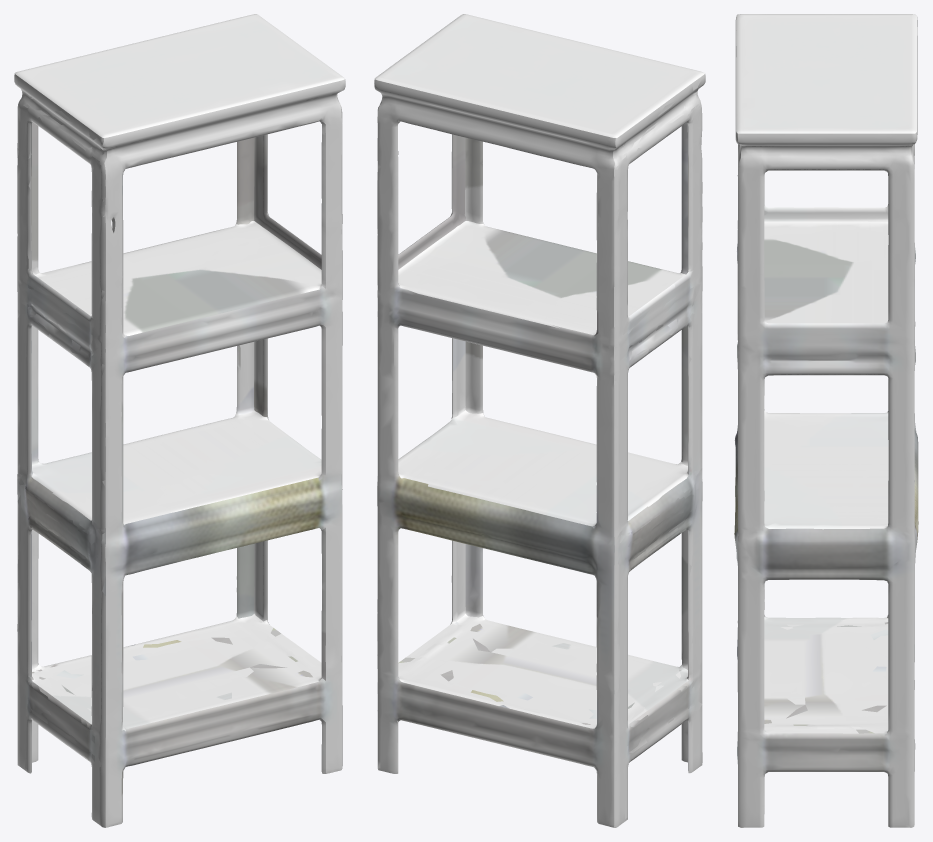
The model's file is shelf__shelf#5.glb.
3 renders of one model, left to right at view 1: azimuth 30°, elevation 25°; view 2: azimuth 150°, elevation 25°; view 3: azimuth 270°, elevation 25°, orthographic.
Parts seen in each view (by area): view 1: tmp_zan2y0x.ply; view 2: tmp_zan2y0x.ply; view 3: tmp_zan2y0x.ply.
Boxes of the visible parts, x1,y1,x2,y2 form: tmp_zan2y0x.ply: (14, 14, 345, 827); tmp_zan2y0x.ply: (374, 14, 705, 827); tmp_zan2y0x.ply: (734, 14, 918, 827).
Size of the model in its own units: 0.7418 by 1.99 by 0.4756.
1 material, 1 textured.
